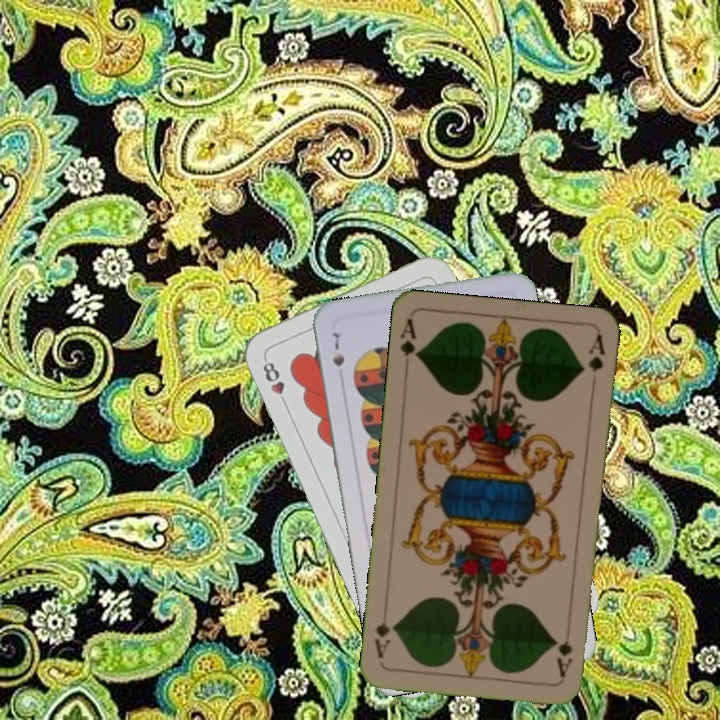GA: (396, 315, 423, 374), (553, 620, 575, 680)
H8: (258, 354, 291, 410)
S7: (328, 328, 347, 369)
